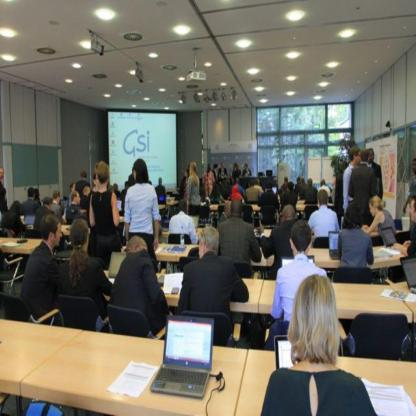board: (154, 316, 214, 400), (274, 333, 297, 367), (400, 254, 416, 295), (108, 251, 127, 282), (380, 227, 400, 252), (281, 253, 314, 268), (329, 230, 341, 259), (22, 211, 36, 226)
